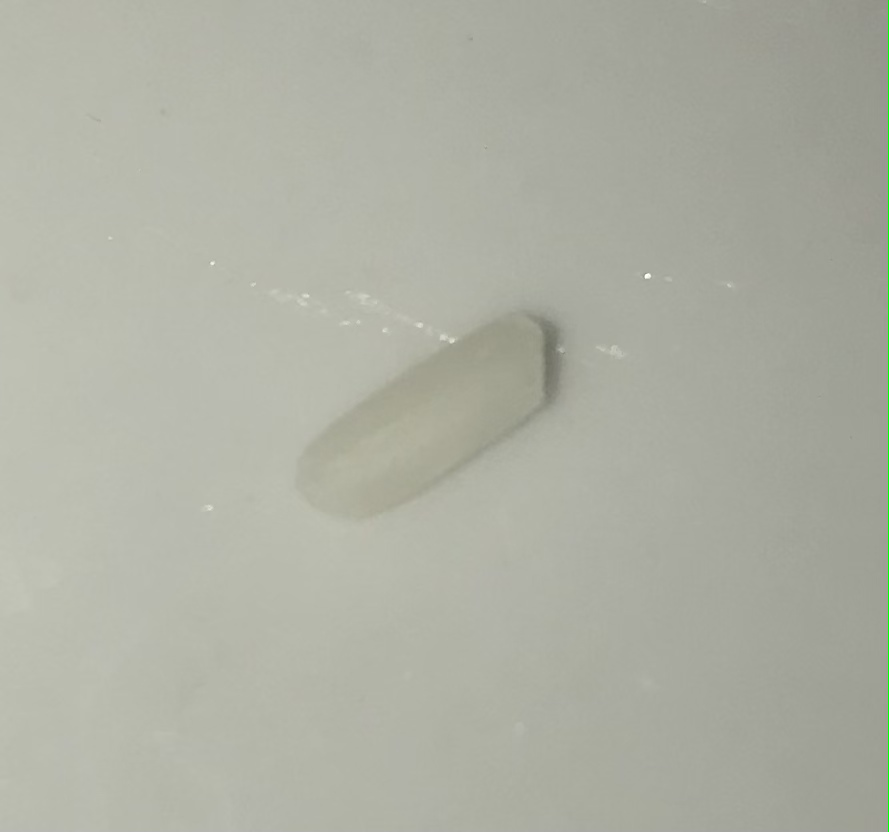Gao Thom Go Cong: (293, 300, 564, 514)
